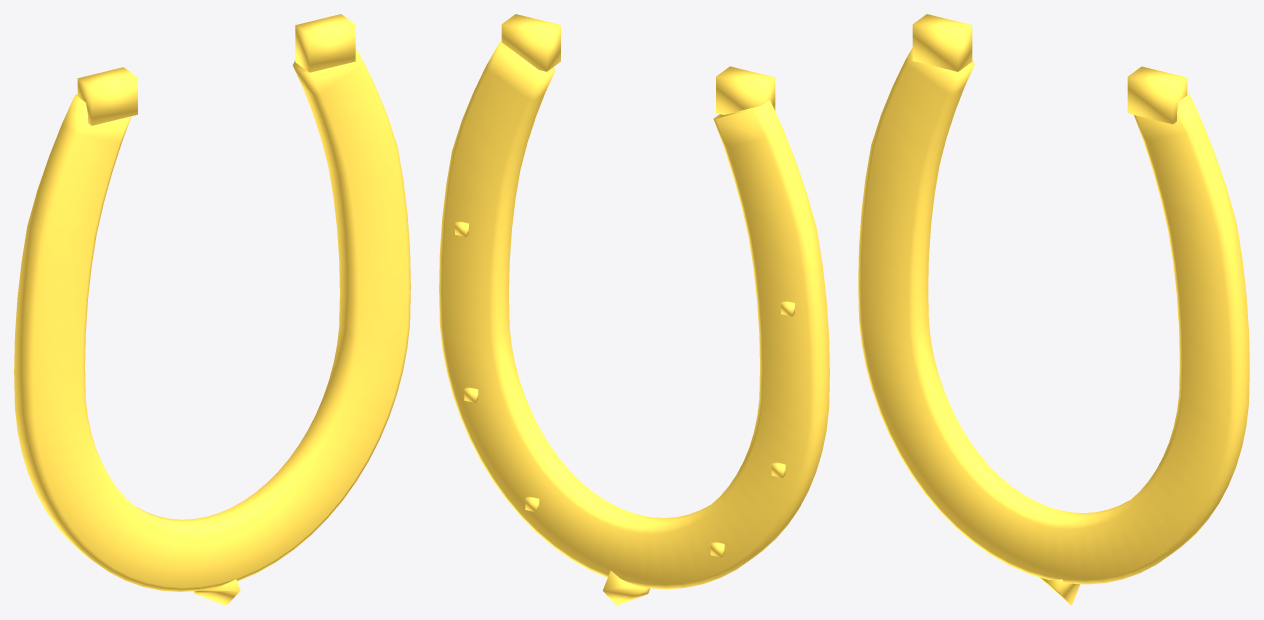
Rendered from Horseshoe.glb.
The picture shows the model from 3 angles, left to right: view 1: azimuth 30°, elevation 25°; view 2: azimuth 150°, elevation 25°; view 3: azimuth 330°, elevation 25°; orthographic projection.
Parts seen in each view (by area): view 1: Horseshoe; view 2: Horseshoe; view 3: Horseshoe.
Boxes of the visible parts, x1,y1,x2,y2 form: Horseshoe: [14, 14, 410, 605]; Horseshoe: [439, 14, 829, 605]; Horseshoe: [858, 14, 1249, 605].
Size of the model in its own units: 0.544 by 0.7594 by 0.07.
